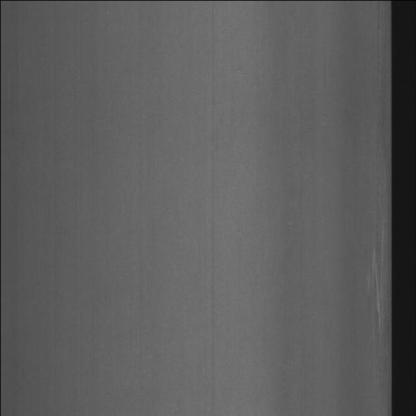silk_spot: (362, 142, 390, 379)
